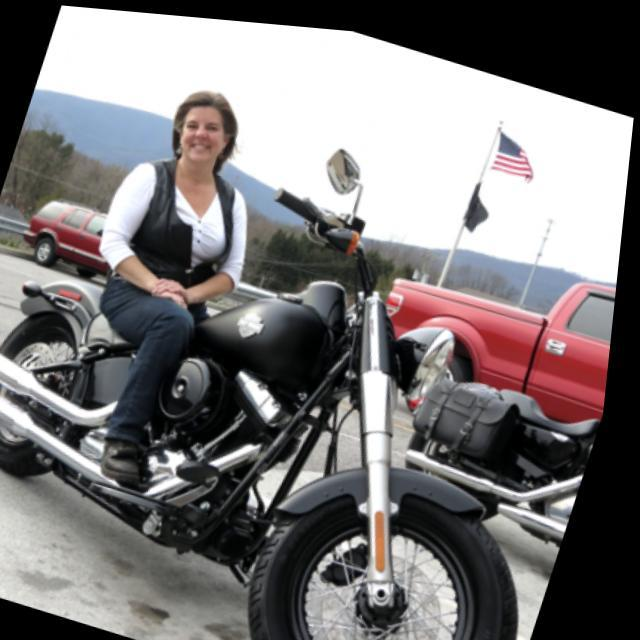Nonhelmet: (165, 77, 242, 185)
